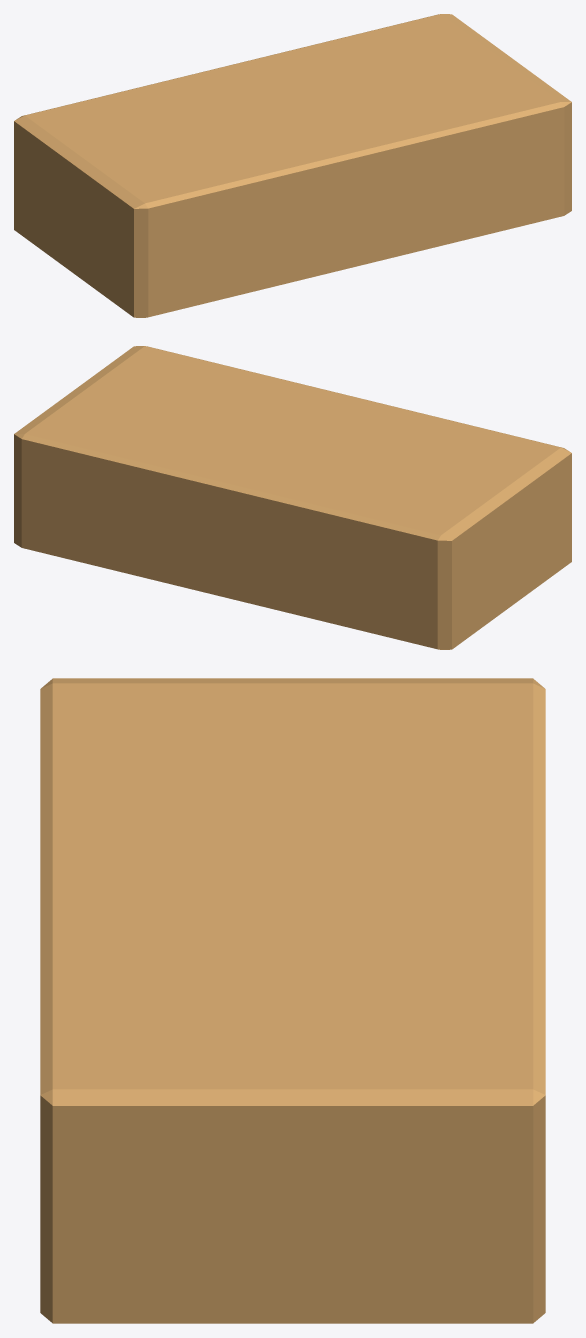
File: wall_low_2m.glb
3 views of the same model, one above another, from view 1: azimuth 30°, elevation 25°; view 2: azimuth 150°, elevation 25°; view 3: azimuth 270°, elevation 25° (orthographic). The views are drawn at different scales.
Visible parts, largest first — view 1: Block.006; view 2: Block.006; view 3: Block.006.
Part boxes in pixels (bbox=[...]): Block.006: bbox=[14, 14, 571, 317]; Block.006: bbox=[14, 346, 571, 649]; Block.006: bbox=[40, 678, 545, 1323].
Bounding box in the file's own units: 2 × 0.5 × 1.
